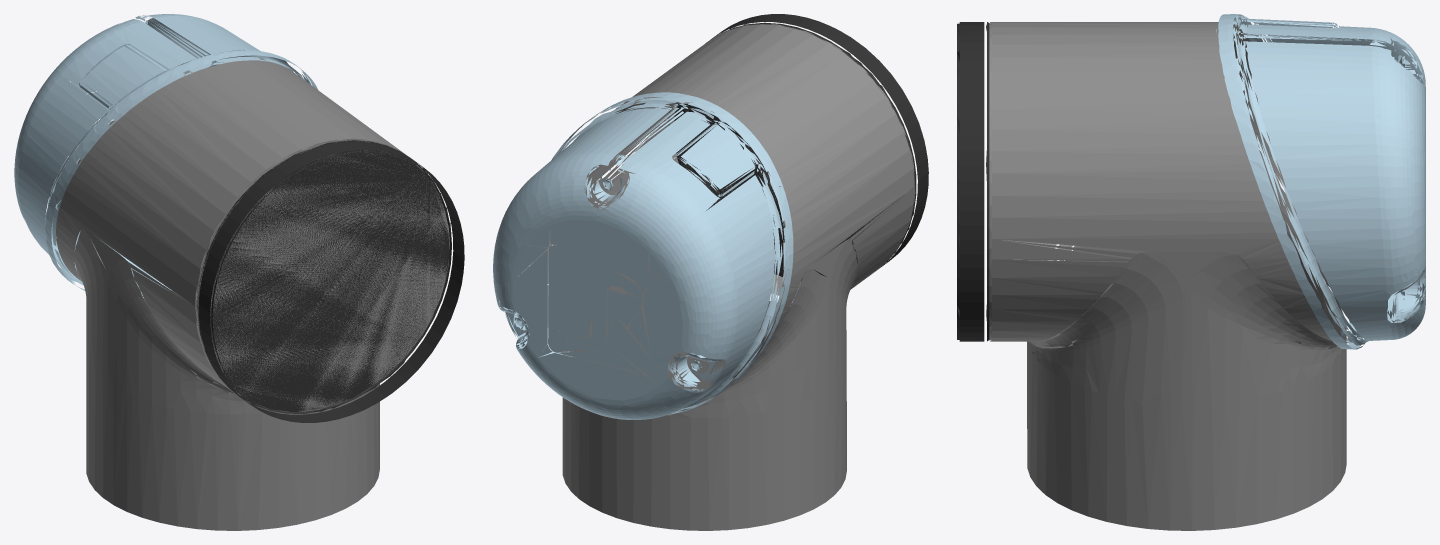
The model's file is ur5e-wrist1.glb.
The picture shows the model from 3 angles, left to right: view 1: azimuth 30°, elevation 25°; view 2: azimuth 150°, elevation 25°; view 3: azimuth 270°, elevation 25°; orthographic projection. The views are drawn at different scales.
Visible parts, largest first — view 1: ur5e-wrist1; view 2: ur5e-wrist1; view 3: ur5e-wrist1.
Boxes of the visible parts, x1,y1,x2,y2 form: ur5e-wrist1: (14,14,464,530); ur5e-wrist1: (493,14,928,530); ur5e-wrist1: (957,14,1425,530).
Size of the model in its own units: 0.0787 by 0.1122 by 0.1099.
